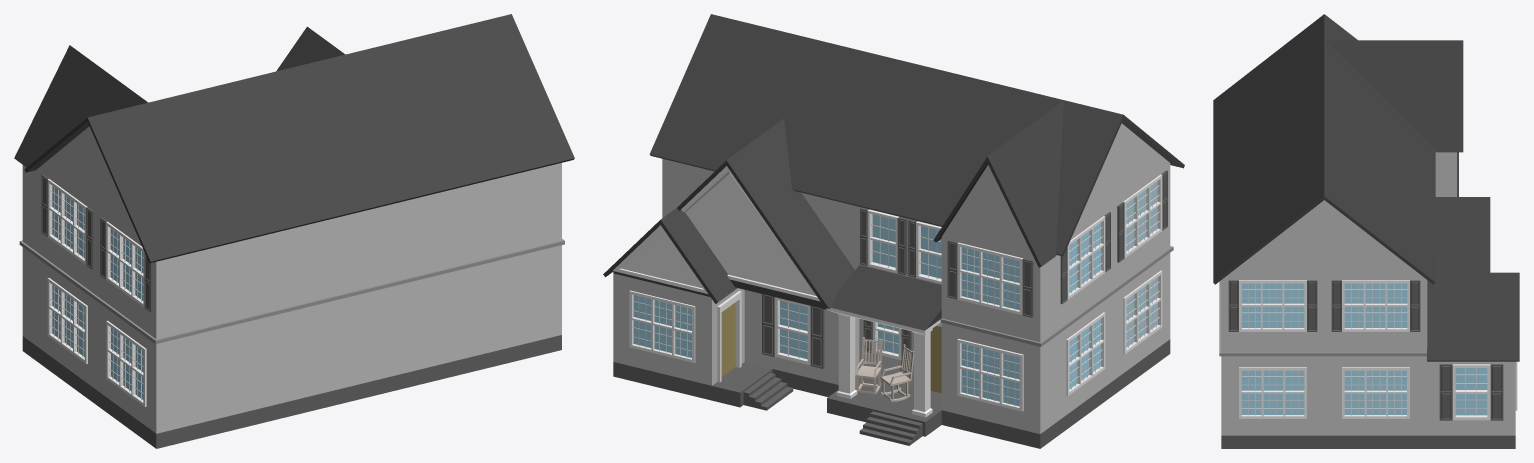
File: house4-transformed.glb
The picture shows the model from 3 angles, left to right: view 1: azimuth 30°, elevation 25°; view 2: azimuth 150°, elevation 25°; view 3: azimuth 270°, elevation 25°; orthographic projection. The views are drawn at different scales.
Visible parts, largest first — view 1: building.044; view 2: building.044; view 3: building.044.
Boxes of the visible parts, <box> form: building.044: <box>14,14,574,448</box>; building.044: <box>603,14,1184,448</box>; building.044: <box>1213,14,1519,448</box>.
Size of the model in its own units: 14.65 by 9.61 by 10.41.
1 material, 1 textured.
